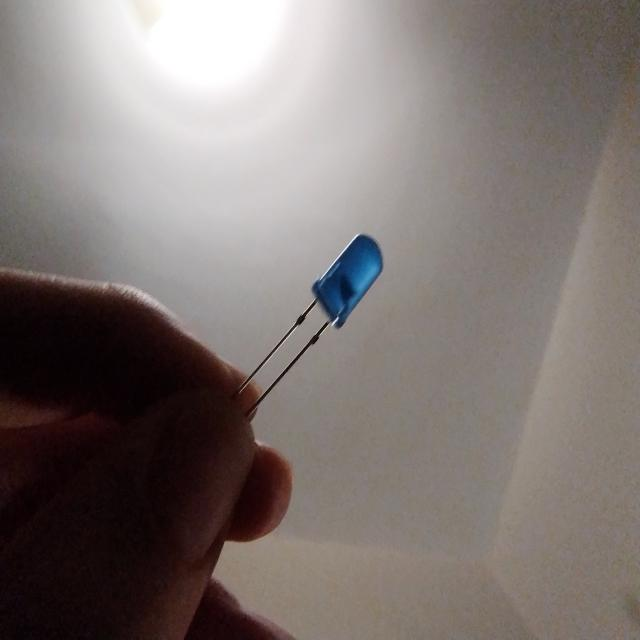blue_led: (225, 224, 387, 407)
